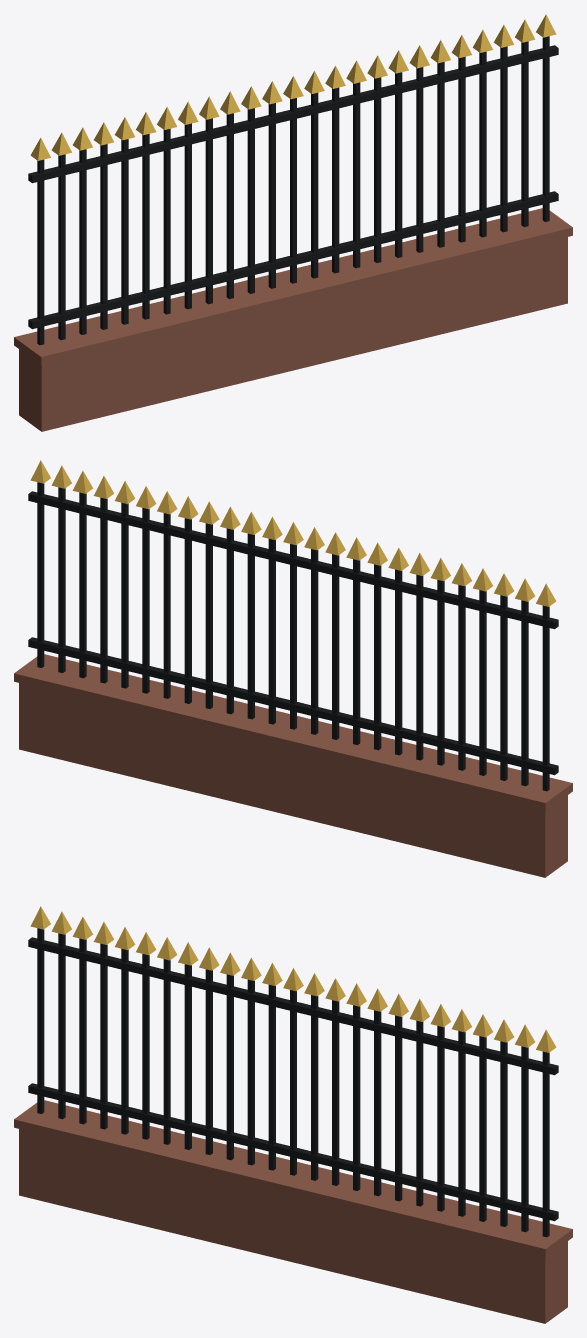
File: railing_brick.glb
3 renders of one model, top to bottom at view 1: azimuth 30°, elevation 25°; view 2: azimuth 150°, elevation 25°; view 3: azimuth 330°, elevation 25°, orthographic.
Parts seen in each view (by area): view 1: railing_brick; view 2: railing_brick; view 3: railing_brick.
Boxes of the visible parts, left/top/right/bottom form: railing_brick: left=14, top=14, right=572, bottom=431; railing_brick: left=14, top=460, right=572, bottom=877; railing_brick: left=14, top=906, right=572, bottom=1323.
Size of the model in its own units: 4.04 by 2.06 by 0.36.
